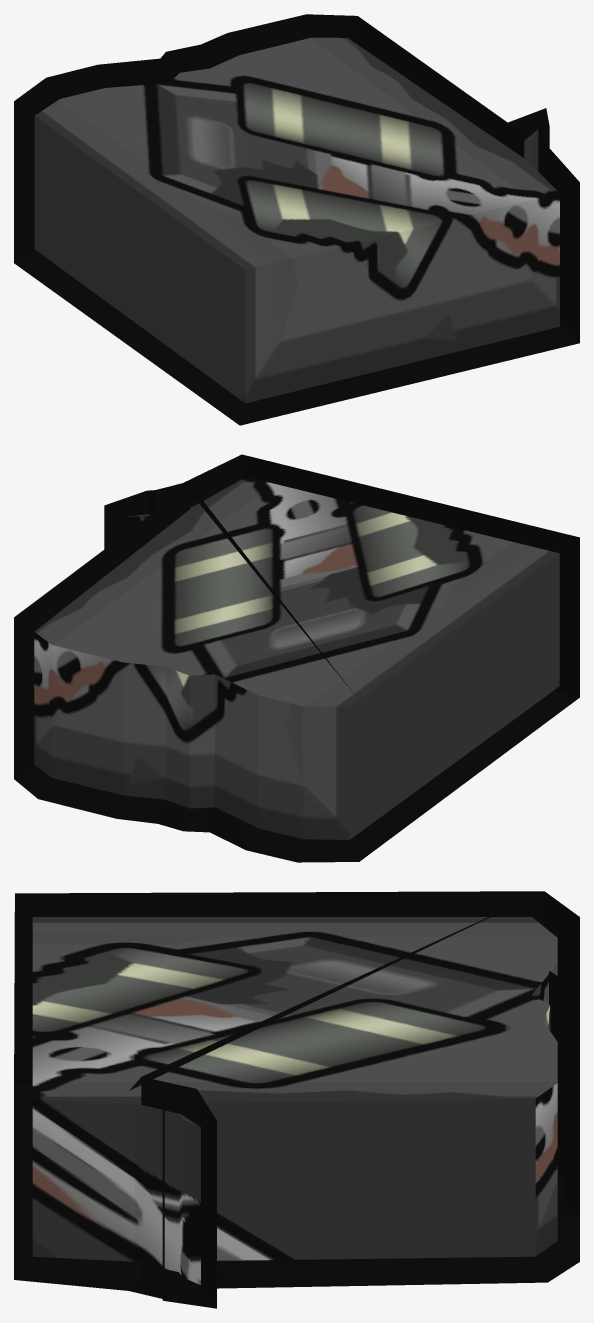
Rendered from Building_AncientAutocannonTurret_Things_Building_Ancient_MilitaryCompound_BustedAutocannonTurret_BustedAutocannonTurretC.glb.
3 renders of one model, top to bottom at view 1: azimuth 30°, elevation 25°; view 2: azimuth 150°, elevation 25°; view 3: azimuth 270°, elevation 25°, orthographic. The views are drawn at different scales.
Parts seen in each view (by area): view 1: Body, Outline; view 2: Body, Outline; view 3: Body, Outline.
Part boxes in pixels (x1,y1,x2,y2): Body: [34, 37, 559, 403]; Outline: [14, 14, 579, 425]; Body: [34, 477, 559, 839]; Outline: [14, 454, 579, 862]; Body: [32, 917, 557, 1284]; Outline: [14, 891, 579, 1308].
Bounding box in the file's own units: 2.06 × 0.8967 × 2.16.
2 materials, 1 textured.
